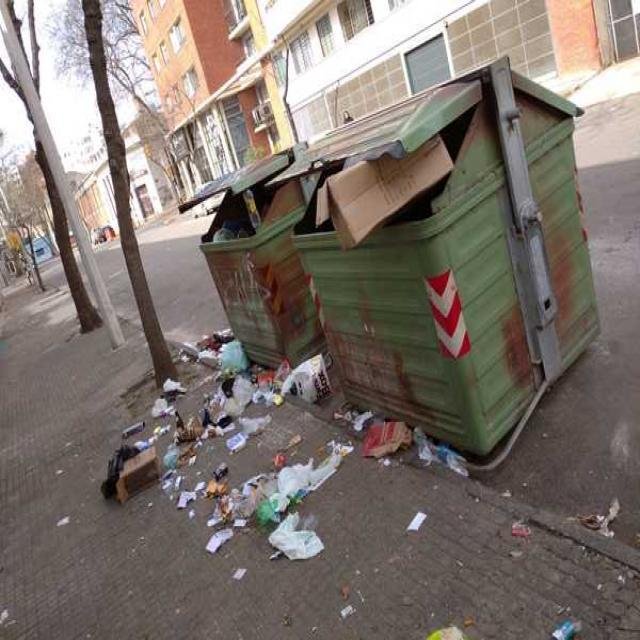garbage: (119, 388, 430, 546), (286, 160, 452, 268), (188, 331, 336, 405), (188, 186, 310, 248), (292, 350, 326, 412)
